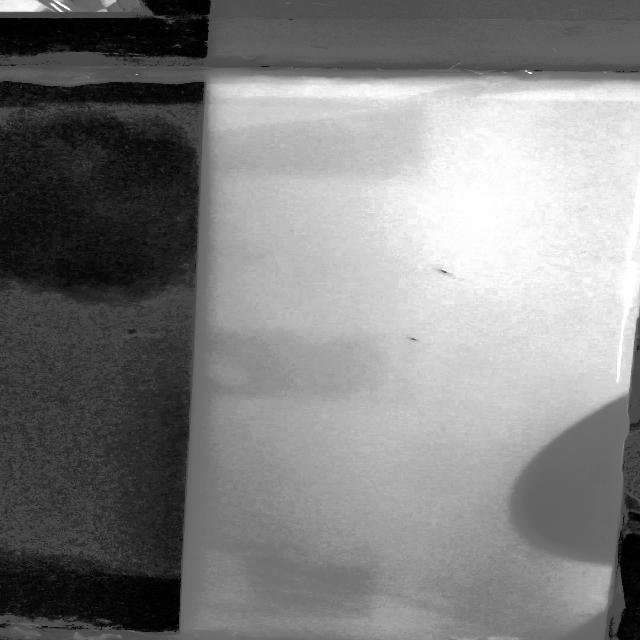shrimp: (422, 261, 471, 284), (386, 331, 436, 349)
